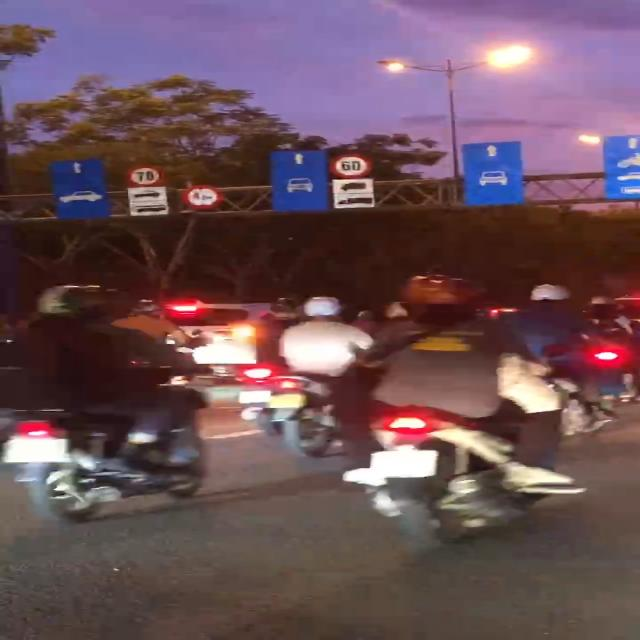Bien bao toc do toi da cho phep: (328, 152, 374, 179), (125, 163, 165, 188)
